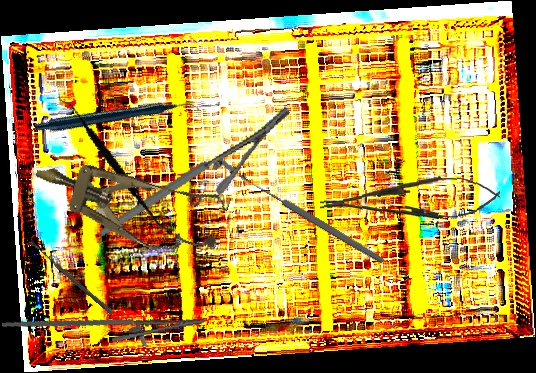Handpiece: (33, 43, 202, 194)
Needle Holder: (81, 105, 308, 237), (1, 293, 207, 368), (319, 173, 501, 225)
Spatula Surgical: (30, 96, 203, 234)
Speculum: (25, 137, 232, 268)
Surgical Spoon: (238, 171, 386, 266), (28, 239, 115, 316)
